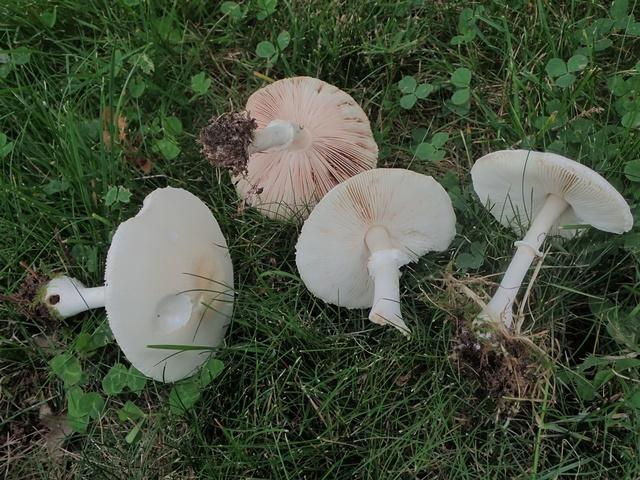Non-edible Mushroom: (37, 184, 235, 383), (468, 147, 633, 341), (294, 166, 456, 337), (228, 74, 378, 223)
